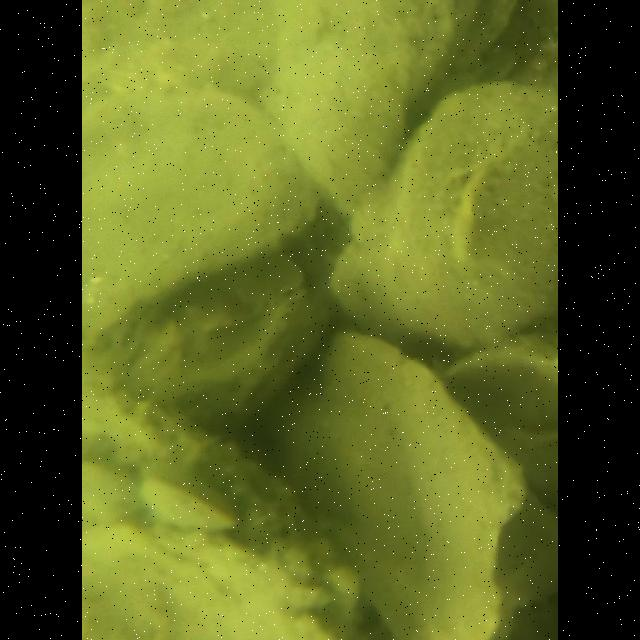Oyster-Closed: (271, 332, 521, 640), (82, 374, 361, 640), (82, 65, 316, 341), (334, 83, 558, 349), (262, 0, 517, 222), (108, 252, 305, 417), (254, 198, 355, 404), (446, 334, 558, 504), (501, 491, 558, 610)
